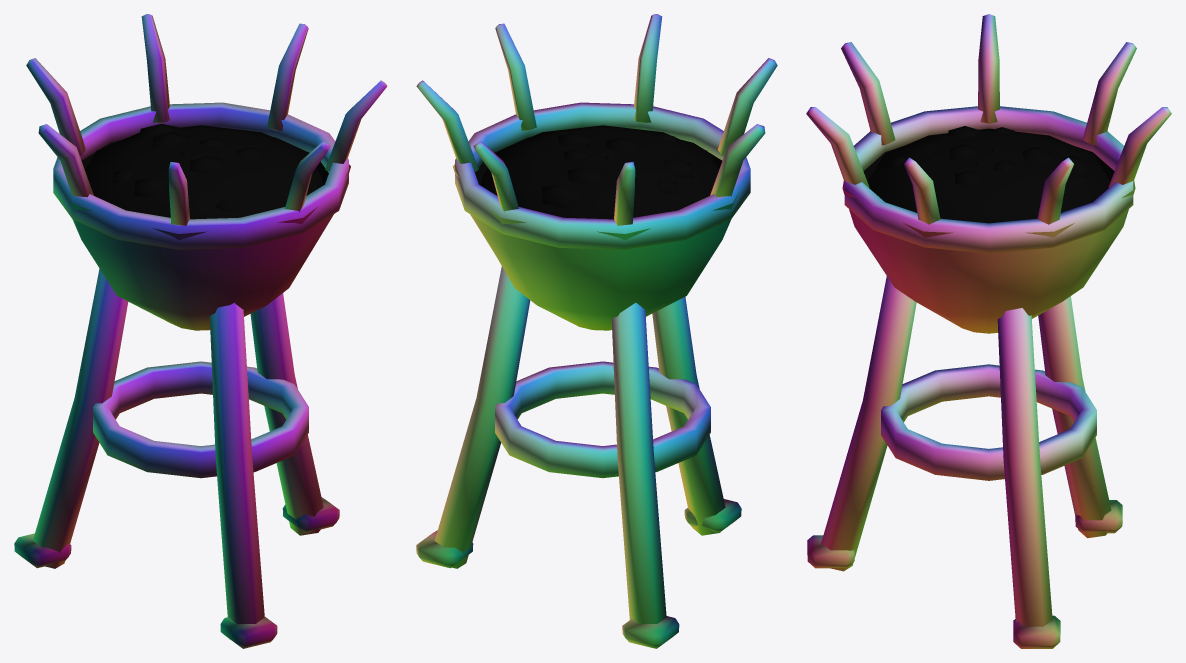
File: SM_Prop_March_Brazier.fbx
3 views of the same model, side by side, from view 1: azimuth 30°, elevation 25°; view 2: azimuth 150°, elevation 25°; view 3: azimuth 270°, elevation 25° (orthographic).
Visible parts, largest first — view 1: SM_Prop_March_Brazier; view 2: SM_Prop_March_Brazier; view 3: SM_Prop_March_Brazier.
Part boxes in pixels (x1,y1,x2,y2): SM_Prop_March_Brazier: (14, 14, 387, 648); SM_Prop_March_Brazier: (416, 14, 777, 648); SM_Prop_March_Brazier: (806, 14, 1171, 648).
Size of the model in its own units: 0.7906 by 1.17 by 0.7906.
